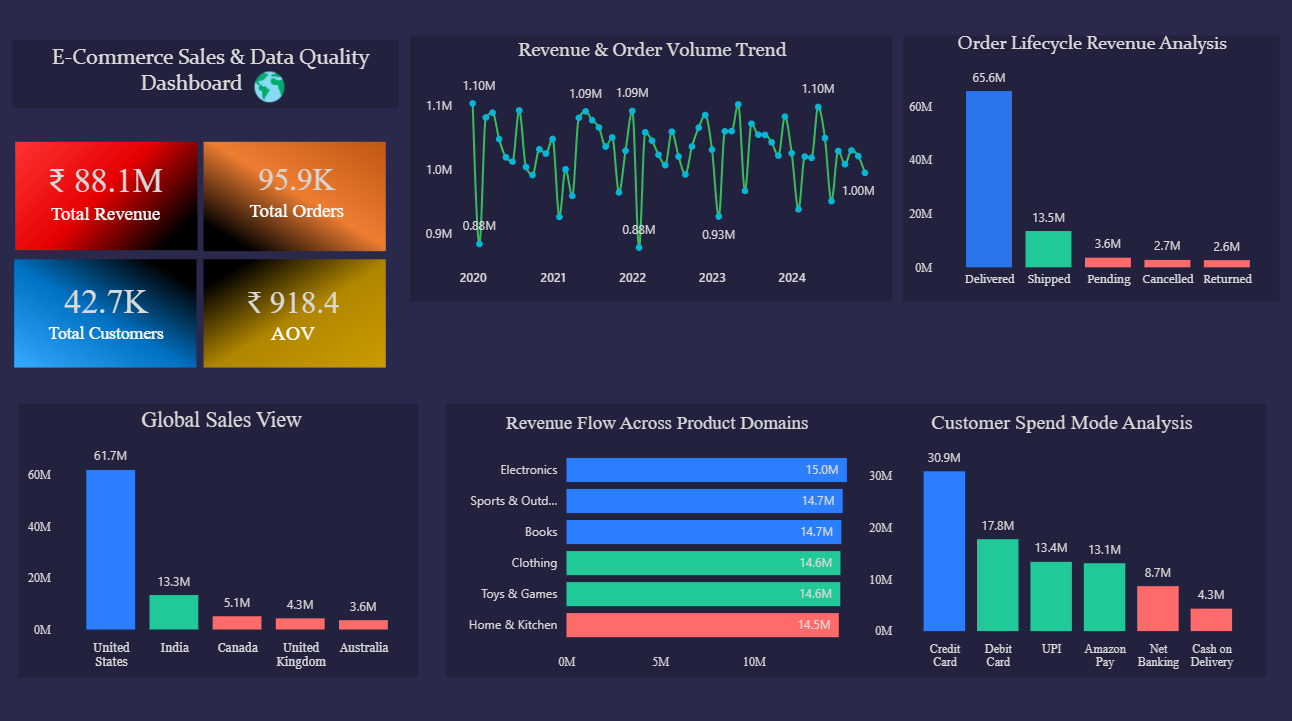

This screenshot's page, from the dashboard's own definition file:
{"tool":"powerbi","page":{"name":"E-Commerce Sales & Data Quality Dashboard","canvas":[1280,720],"ordinal":0},"visuals":[{"type":"cardVisual","fields":{"Data":["Measures (2).Total Revenue"]},"box":[19.2,144.1,171.5,96.1],"z":0},{"type":"cardVisual","fields":{"Data":["Measures (2).AOV"]},"box":[204.5,264.8,171.5,94.7],"z":1000},{"type":"cardVisual","fields":{"Data":["Measures (2).Total Customers"]},"box":[19.2,263.5,172.9,96.1],"z":2000},{"type":"cardVisual","title":"Avg. Monthly Charges","fields":{"Data":["Measures (2).Total Orders"]},"box":[204.5,140,178.4,104.3],"z":3000},{"type":"lineChart","title":"Revenue & Order Volume Trend","fields":{"Y":["Measures (2).Total Revenue (Clean)"],"Category":["ecommerce amazon_orders.MonthDate.Variation.Date Hierarchy.Year","ecommerce amazon_orders.MonthDate.Variation.Date Hierarchy.Quarter","ecommerce amazon_orders.MonthDate.Variation.Date Hierarchy.Month","ecommerce amazon_orders.MonthDate.Variation.Date Hierarchy.Day"]},"box":[415.8,39.8,458.3,253.9],"z":4000},{"type":"textbox","title":"E-Commerce Sales & Data Quality Dashboard","box":[22,39.8,373.2,65.9],"z":5000},{"type":"clusteredColumnChart","title":"Order Lifecycle Revenue Analysis","fields":{"Y":["Measures (2).Total Revenue"],"Category":["ecommerce amazon_orders.OrderStatus"]},"box":[893.3,31.6,371.9,262.1],"z":6000},{"type":"clusteredBarChart","title":"Revenue Flow Across Product Domains","fields":{"Y":["Measures (2).Total Revenue"],"Category":["ecommerce amazon_orders.Category"]},"box":[446,407.5,408.9,262.1],"z":7000},{"type":"clusteredColumnChart","title":"Customer Spend Mode Analysis","fields":{"Category":["ecommerce amazon_orders.PaymentMethod"],"Y":["Measures (2).Total Revenue"]},"box":[854.9,407.5,391.1,262.1],"z":8000},{"type":"clusteredColumnChart","title":"Global Sales View","fields":{"Category":["ecommerce amazon_orders.Country"],"Y":["Measures (2).Total Revenue"]},"box":[23.3,403.4,392.5,266.2],"z":9000},{"type":"image","box":[242,71.4,50,30],"z":10000}]}

Visuals, with their boxes in screenshot pixels (x1, y1, x2, y2), scaled from the page's 1280x720 canvas onto the 1292x721 screenshot:
cardVisual - Measures (2).Total Revenue: locate(19, 144, 192, 241)
cardVisual - Measures (2).AOV: locate(206, 265, 380, 360)
cardVisual - Measures (2).Total Customers: locate(19, 264, 194, 360)
"Avg. Monthly Charges" cardVisual: locate(206, 140, 386, 245)
"Revenue & Order Volume Trend" lineChart: locate(420, 40, 882, 294)
"E-Commerce Sales & Data Quality Dashboard" textbox: locate(22, 40, 399, 106)
"Order Lifecycle Revenue Analysis" clusteredColumnChart: locate(902, 32, 1277, 294)
"Revenue Flow Across Product Domains" clusteredBarChart: locate(450, 408, 863, 671)
"Customer Spend Mode Analysis" clusteredColumnChart: locate(863, 408, 1258, 671)
"Global Sales View" clusteredColumnChart: locate(24, 404, 420, 671)
image: locate(244, 71, 295, 102)
